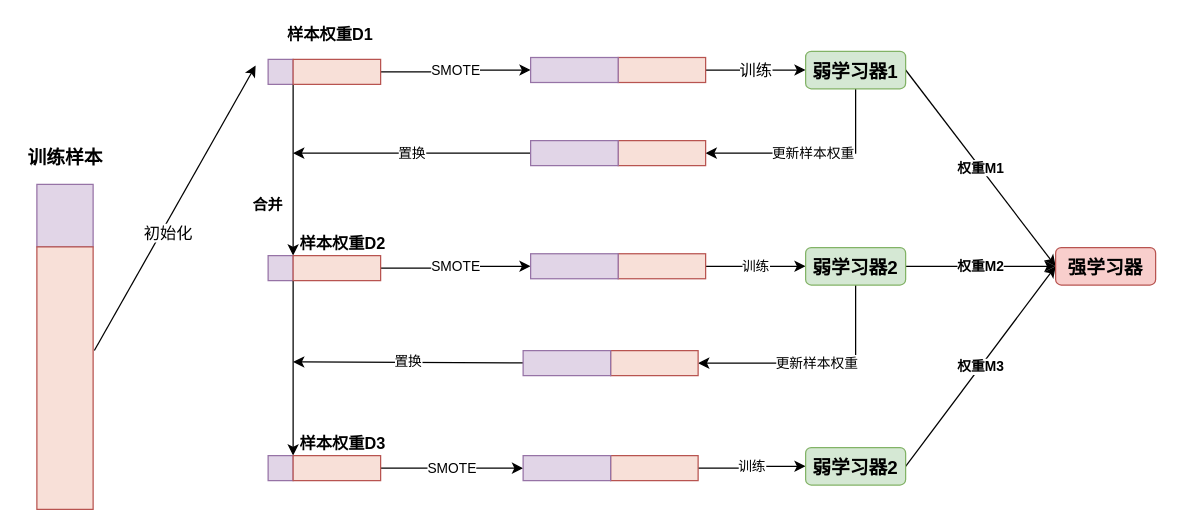
This 1178x531 diagram has some shape labels left out. The box of each missing label's shape, as (x1, y1, x2, y2) in pixels:
多数类: (36, 246, 93, 509)
少数类: (36, 183, 93, 247)
